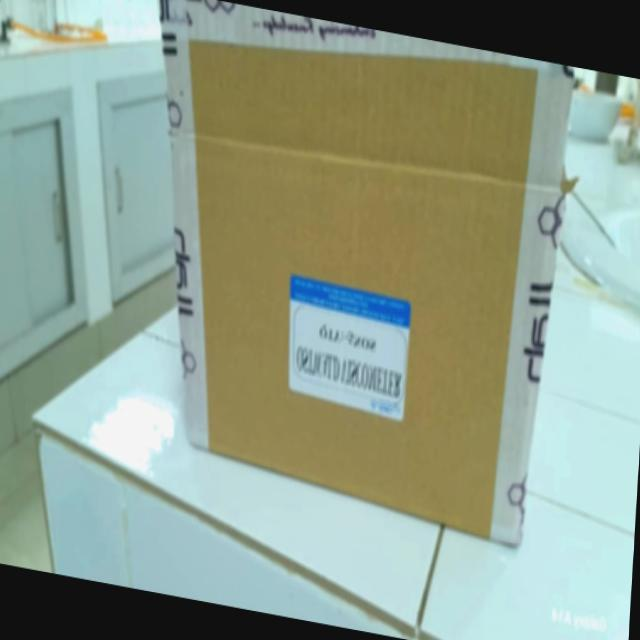Ostwald Viscometer: (173, 194, 540, 535)
